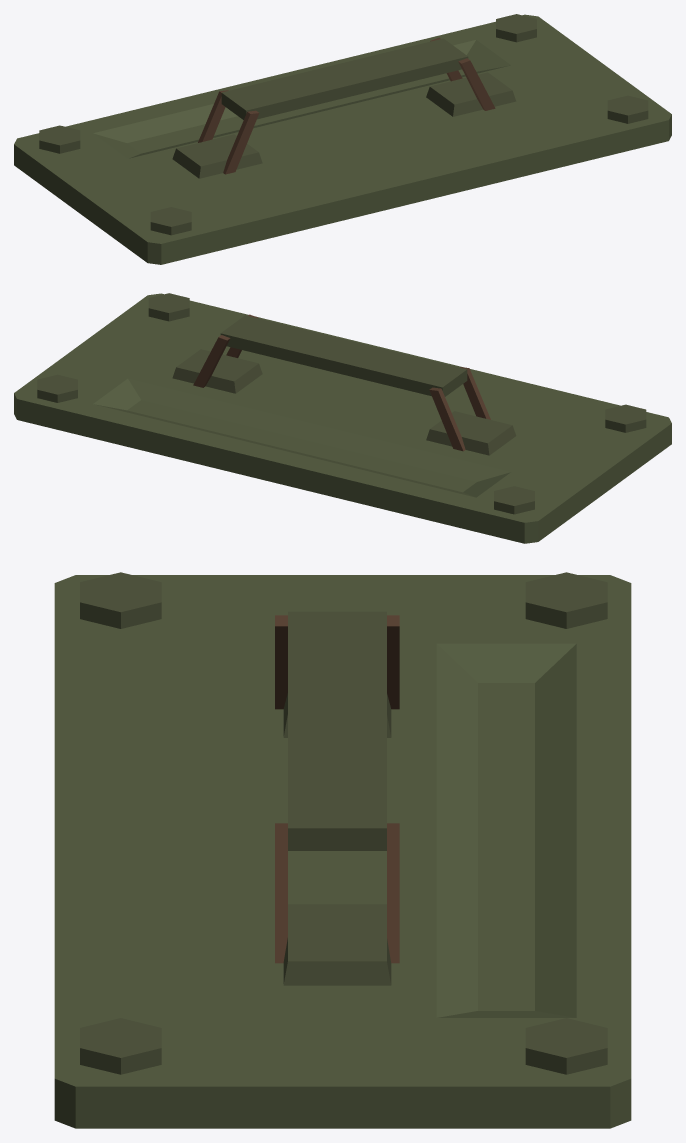
The model's file is SM_Prop_AmmoBox_03_Lid.fbx.
The picture shows the model from 3 angles, top to bottom: view 1: azimuth 30°, elevation 25°; view 2: azimuth 150°, elevation 25°; view 3: azimuth 270°, elevation 25°; orthographic projection. The views are drawn at different scales.
Parts seen in each view (by area): view 1: SM_Prop_AmmoBox_03_Lid; view 2: SM_Prop_AmmoBox_03_Lid; view 3: SM_Prop_AmmoBox_03_Lid.
Part boxes in pixels (bbox=[...]): SM_Prop_AmmoBox_03_Lid: bbox=[14, 14, 671, 264]; SM_Prop_AmmoBox_03_Lid: bbox=[14, 293, 671, 543]; SM_Prop_AmmoBox_03_Lid: bbox=[54, 572, 631, 1128].
Size of the model in its own units: 51.45 by 7.18 by 24.49.
